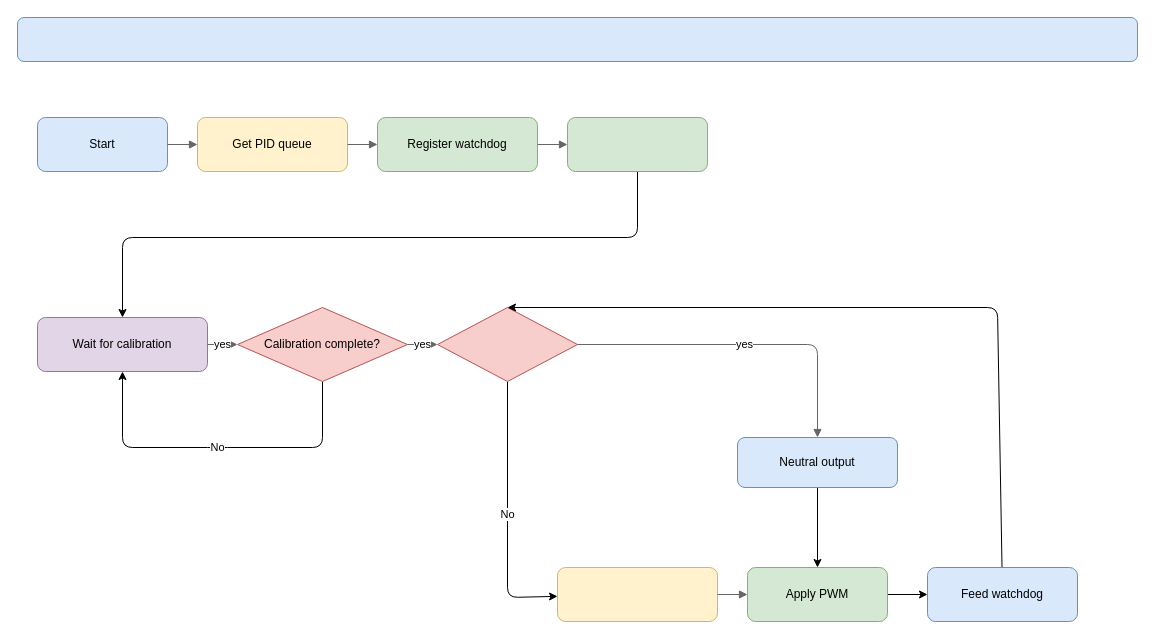
This 1155x639 diagram has some shape labels left out. Here are the shapes that lost their labels. From the top down, the box of each, then its label:
(16, 16, 1138, 62): Servo Driver
(566, 116, 708, 172): Start task
(436, 306, 578, 382): PID bypass?
(556, 566, 718, 622): Receive correction
